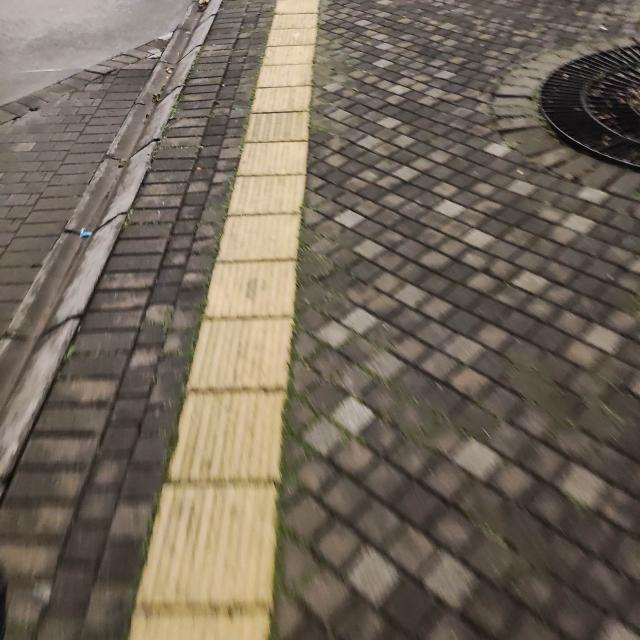lurus: (160, 0, 313, 640)
